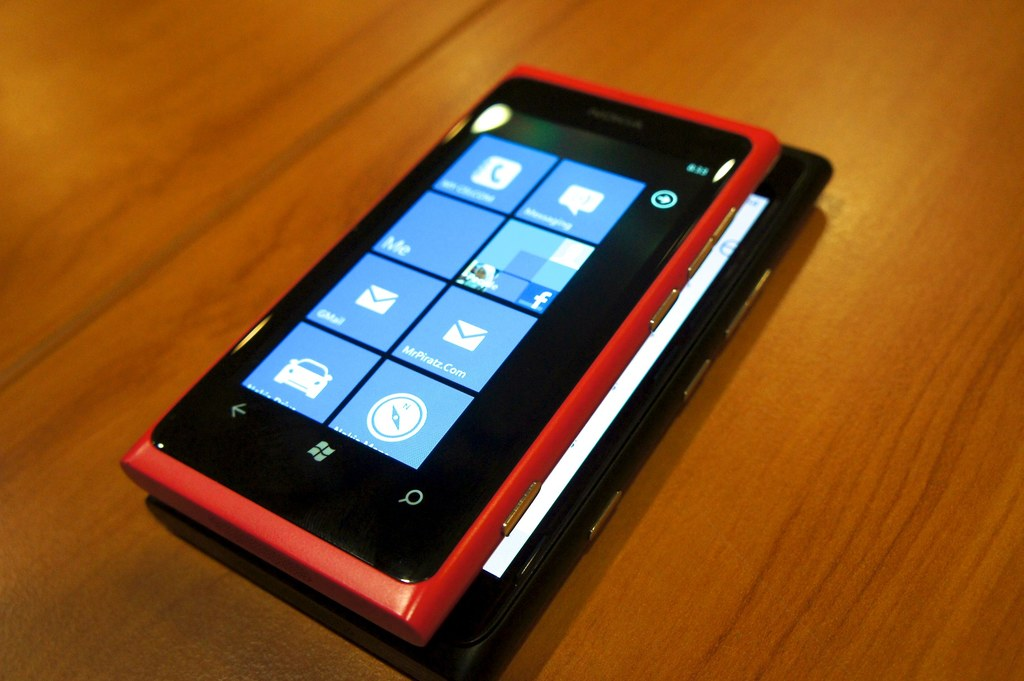mobile phone: (122, 60, 782, 640)
